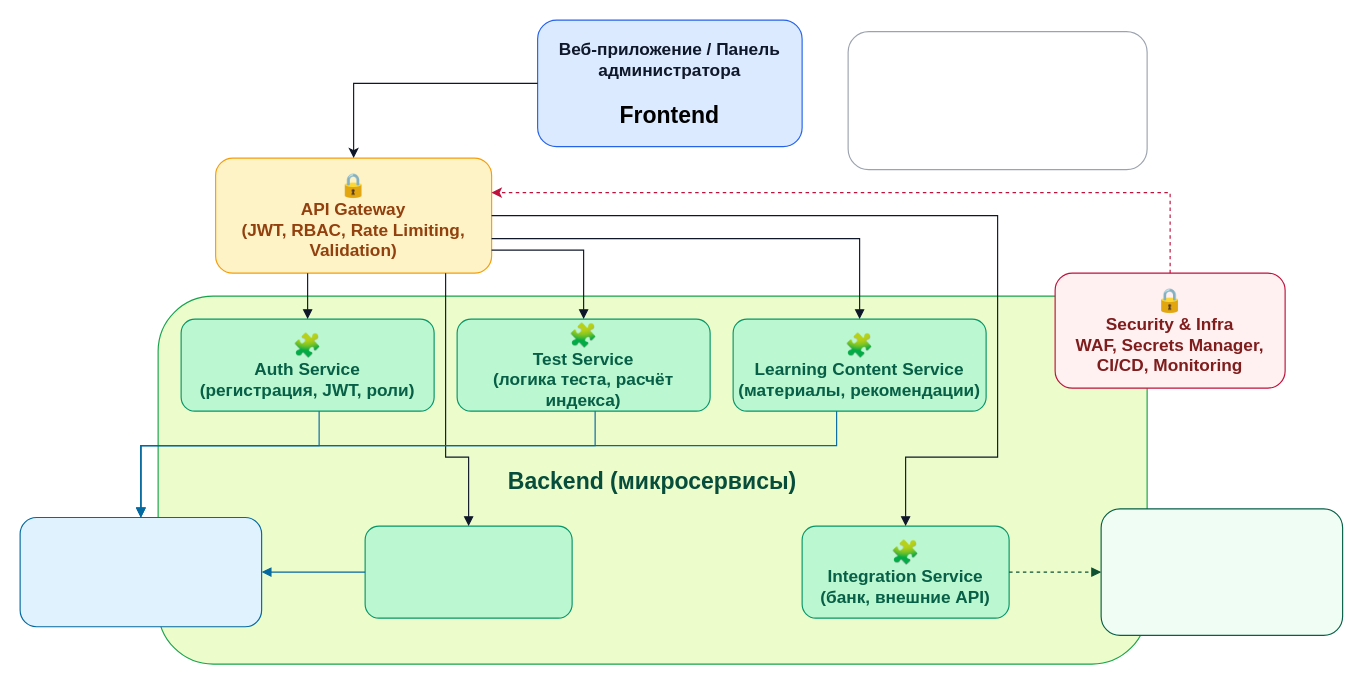
The diagram is 1363 pixels wide and 684 high, and some of its shapes have lost their labels. The box of each missing label's shape, as (x1, y1, x2, y2) in pixels:
Легенда: 🔒 HTTPS/JWT 🧩 Микросервисы 📦 БД 🔗 Внешние API: (847, 30, 1147, 170)
📦 Database (Postgres) users, tests, results, materials, logs: (19, 516, 262, 627)
🔗 Внешние системы - API банка - Яндекс.Метрика: (1100, 508, 1343, 635)
🧩 Analytics Service (сбор и агрегация): (364, 525, 572, 618)
